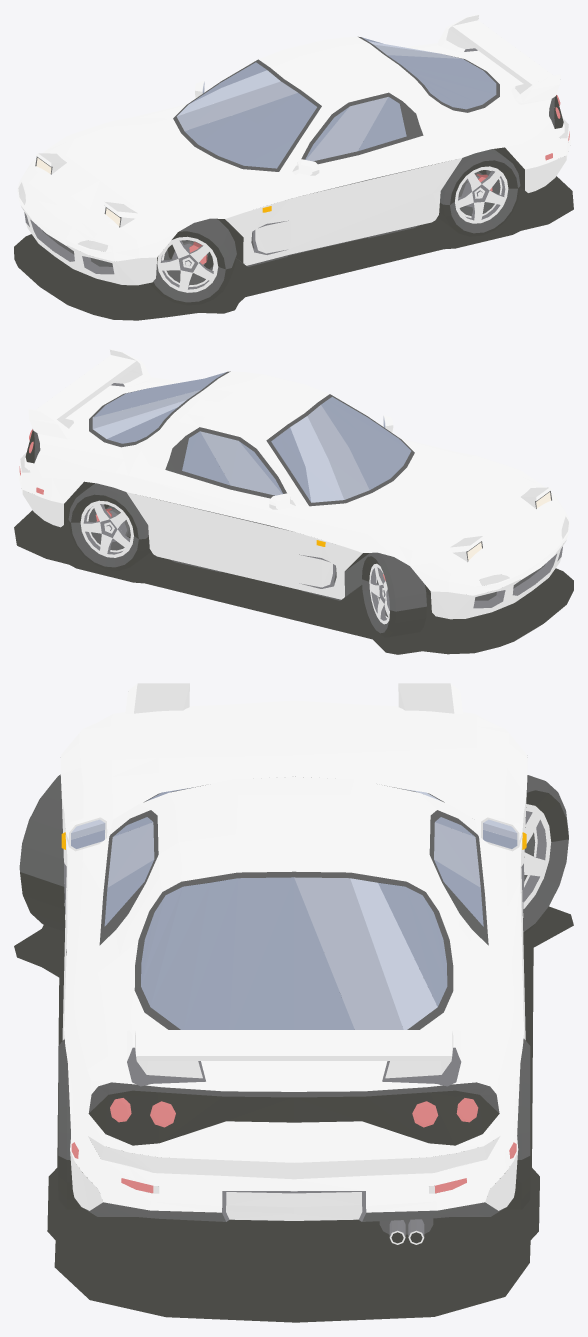
The model's file is mazda-rx7-stylised.glb.
The picture shows the model from 3 angles, top to bottom: view 1: azimuth 30°, elevation 25°; view 2: azimuth 150°, elevation 25°; view 3: azimuth 270°, elevation 25°; orthographic projection. The views are drawn at different scales.
Parts seen in each view (by area): view 1: Low Poly Rx7_02 - Default_0, Low Poly Rx7_Material #9_0, Floor, Low Poly Rx7_Material #3_0, Low Poly Rx7_Material #6_0, Low Poly Rx7_Material #4_0, Low Poly Rx7_Material #7_0, Low Poly Rx7_Material #8_0, Low Poly Rx7_Material #5_0; view 2: Low Poly Rx7_02 - Default_0, Low Poly Rx7_Material #9_0, Floor, Low Poly Rx7_Material #6_0, Low Poly Rx7_Material #3_0, Low Poly Rx7_Material #4_0, Low Poly Rx7_Material #7_0, Low Poly Rx7_Material #5_0, Low Poly Rx7_Material #8_0; view 3: Low Poly Rx7_02 - Default_0, Floor, Low Poly Rx7_Material #3_0, Low Poly Rx7_Material #9_0, Low Poly Rx7_Material #6_0, Low Poly Rx7_Material #7_0, Low Poly Rx7_Material #4_0, Low Poly Rx7_Material #5_0, Low Poly Rx7_Material #8_0, Low Poly Rx7_Material #17_0, Low Poly Rx7_Material #1_0.
Part boxes in pixels (x1,y1,x2,y2): Low Poly Rx7_02 - Default_0: (17,14,570,265); Low Poly Rx7_Material #9_0: (18,15,568,292); Floor: (14,176,573,320); Low Poly Rx7_Material #3_0: (184,37,496,168); Low Poly Rx7_Material #6_0: (42,36,520,302); Low Poly Rx7_Material #4_0: (176,44,461,161); Low Poly Rx7_Material #7_0: (150,95,563,305); Low Poly Rx7_Material #8_0: (24,48,505,289); Low Poly Rx7_Material #5_0: (177,41,437,116); Low Poly Rx7_02 - Default_0: (18,349,569,598); Low Poly Rx7_Material #9_0: (20,349,568,624); Floor: (14,510,573,654); Low Poly Rx7_Material #6_0: (68,371,544,633); Low Poly Rx7_Material #3_0: (93,372,411,502); Low Poly Rx7_Material #4_0: (92,390,385,499); Low Poly Rx7_Material #7_0: (25,430,430,637); Low Poly Rx7_Material #5_0: (93,400,385,502); Low Poly Rx7_Material #8_0: (83,383,562,620); Low Poly Rx7_02 - Default_0: (60,683,527,1212); Floor: (14,906,573,1322); Low Poly Rx7_Material #3_0: (71,787,517,1029); Low Poly Rx7_Material #9_0: (61,683,551,1244); Low Poly Rx7_Material #6_0: (19,774,568,1234); Low Poly Rx7_Material #7_0: (20,775,568,1243); Low Poly Rx7_Material #4_0: (71,822,517,1029); Low Poly Rx7_Material #5_0: (71,789,516,1029); Low Poly Rx7_Material #8_0: (64,811,546,1237); Low Poly Rx7_Material #17_0: (88,1082,499,1113); Low Poly Rx7_Material #1_0: (71,1098,516,1193).
Size of the model in its own units: 586 by 173 by 287.
